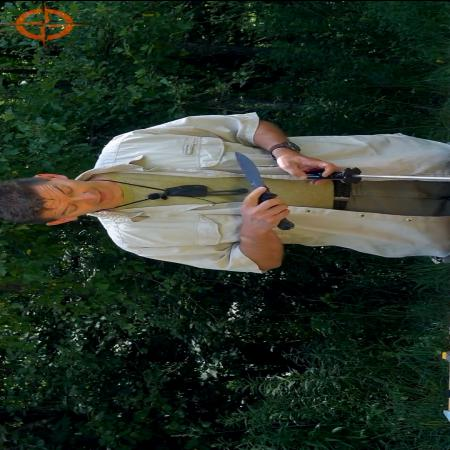long weapon: (230, 148, 296, 232)
